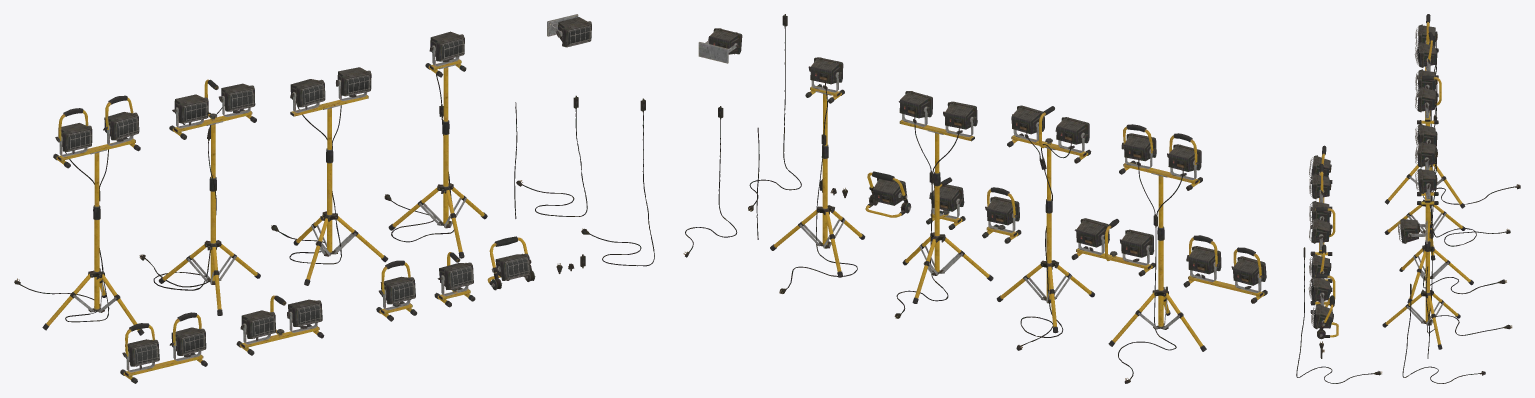
Rendered from flood_lights_lod1.glb.
3 renders of one model, left to right at view 1: azimuth 30°, elevation 25°; view 2: azimuth 150°, elevation 25°; view 3: azimuth 270°, elevation 25°, orthographic. The views are drawn at different scales.
Parts seen in each view (by area): view 1: flood_lights_cable_a_geo, flood_lights_floor_double_a_light_01; view 2: flood_lights_cable_a_geo; view 3: flood_lights_cable_a_geo, flood_lights_floor_double_a_light_01.
Boxes of the visible parts, x1=… form: flood_lights_cable_a_geo: x1=14, y1=14, x2=654, y2=383; flood_lights_floor_double_a_light_01: x1=67, y1=26, x2=590, y2=364; flood_lights_cable_a_geo: x1=683, y1=14, x2=1267, y2=383; flood_lights_cable_a_geo: x1=1296, y1=14, x2=1520, y2=383; flood_lights_floor_double_a_light_01: x1=1311, y1=47, x2=1419, y2=324.
Size of the model in its own units: 4.6 by 1.81 by 2.11.
Materials: 2 (2 with a texture image).
